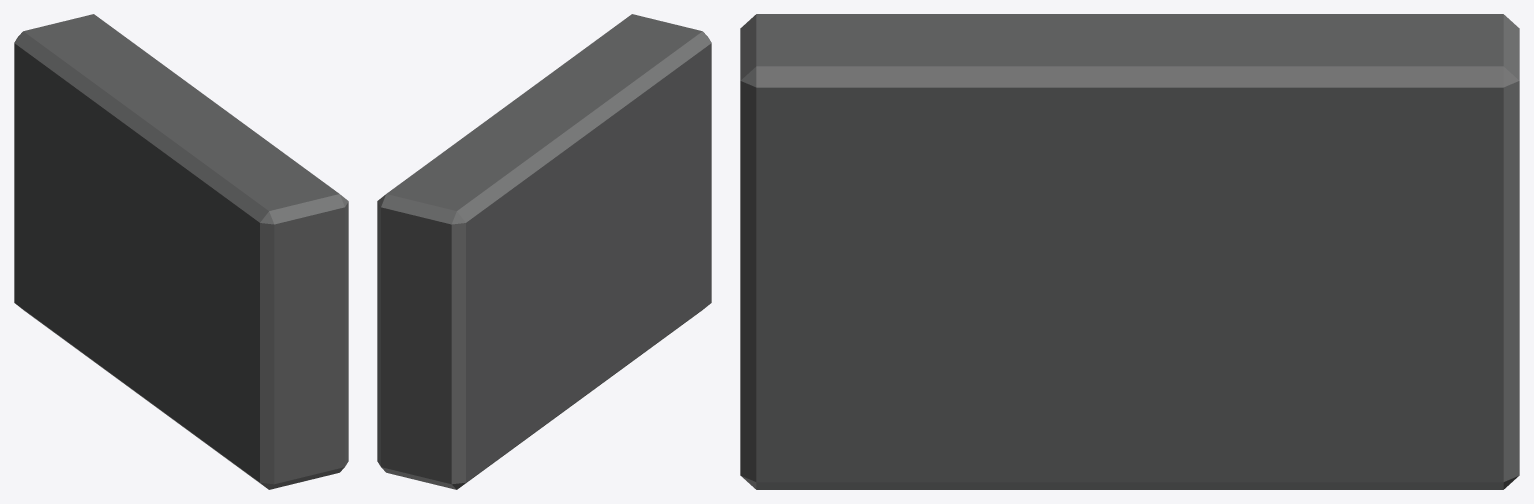
File: Wall_B_3_1.obj
The picture shows the model from 3 angles, left to right: view 1: azimuth 30°, elevation 25°; view 2: azimuth 150°, elevation 25°; view 3: azimuth 270°, elevation 25°; orthographic projection. The views are drawn at different scales.
Parts seen in each view (by area): view 1: Wall_B_3_1; view 2: Wall_B_3_1; view 3: Wall_B_3_1.
Boxes of the visible parts, x1=… form: Wall_B_3_1: x1=14, y1=14, x2=348, y2=489; Wall_B_3_1: x1=377, y1=14, x2=711, y2=489; Wall_B_3_1: x1=740, y1=14, x2=1519, y2=489.
Size of the model in its own units: 0.4 by 1.2 by 2.
